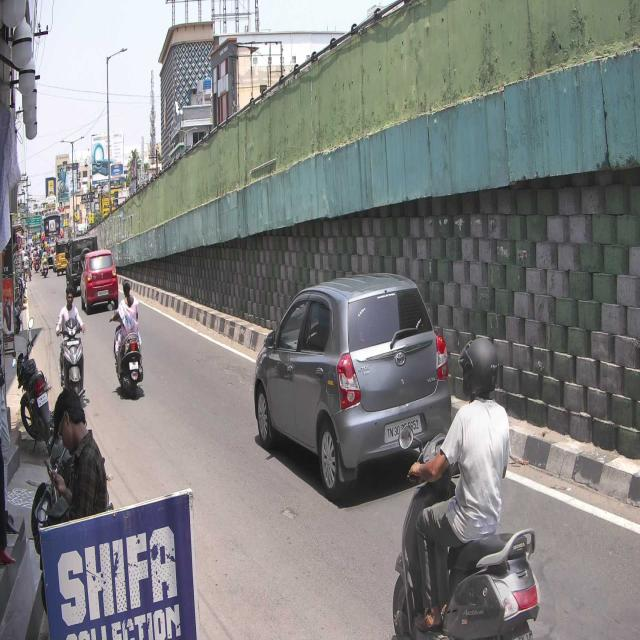single_rider: (390, 333, 542, 640)
